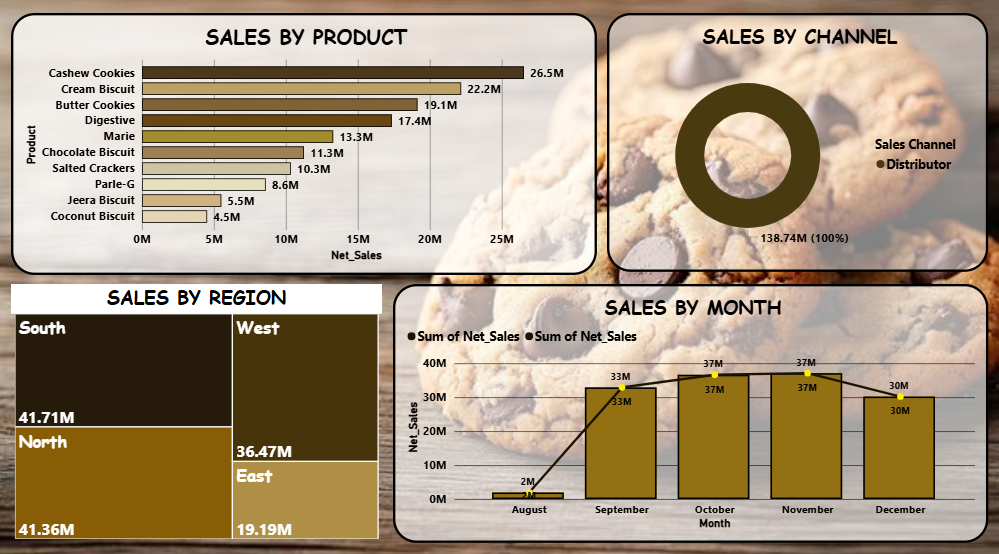

The page's visual inventory and layout, read from the dashboard file:
{"tool":"powerbi","page":{"name":"Sales & Profit Analysis","canvas":[1280,720],"ordinal":2},"visuals":[{"type":"clusteredBarChart","title":"SALES BY PRODUCT","fields":{"Category":["Biscuit_Manufacturing_1000_Records.Product"],"Y":["Sum(Biscuit_Manufacturing_1000_Records.Net_Sales)"]},"box":[19.1,26.8,747.1,334],"z":0},{"type":"treemap","title":"SALES BY REGION","fields":{"Group":["Biscuit_Manufacturing_1000_Records.Region"],"Values":["Sum(Biscuit_Manufacturing_1000_Records.Net_Sales)"]},"box":[19.1,372.3,473,330.2],"z":1000},{"type":"donutChart","title":"SALES BY CHANNEL","fields":{"Category":["Biscuit_Manufacturing_1000_Records.Sales_Channel"],"Y":["Sum(Biscuit_Manufacturing_1000_Records.Net_Sales)"]},"box":[779,26.8,485.7,330.2],"z":2000},{"type":"lineClusteredColumnComboChart","title":"SALES BY MONTH","fields":{"Category":["Biscuit_Manufacturing_1000_Records.Date.Variation.Date Hierarchy.Month"],"Y":["Sum(Biscuit_Manufacturing_1000_Records.Net_Sales)"],"Y2":["Sum(Biscuit_Manufacturing_1000_Records.Net_Sales)"]},"box":[506.1,372.3,758.6,330.2],"z":3000}]}

Visuals, with their boxes in screenshot pixels (x1, y1, x2, y2), scaled from the page's 1280x720 canvas onto the 999x554 screenshot:
"SALES BY PRODUCT" clusteredBarChart: (15,21,598,278)
"SALES BY REGION" treemap: (15,286,384,541)
"SALES BY CHANNEL" donutChart: (608,21,987,275)
"SALES BY MONTH" lineClusteredColumnComboChart: (395,286,987,541)
